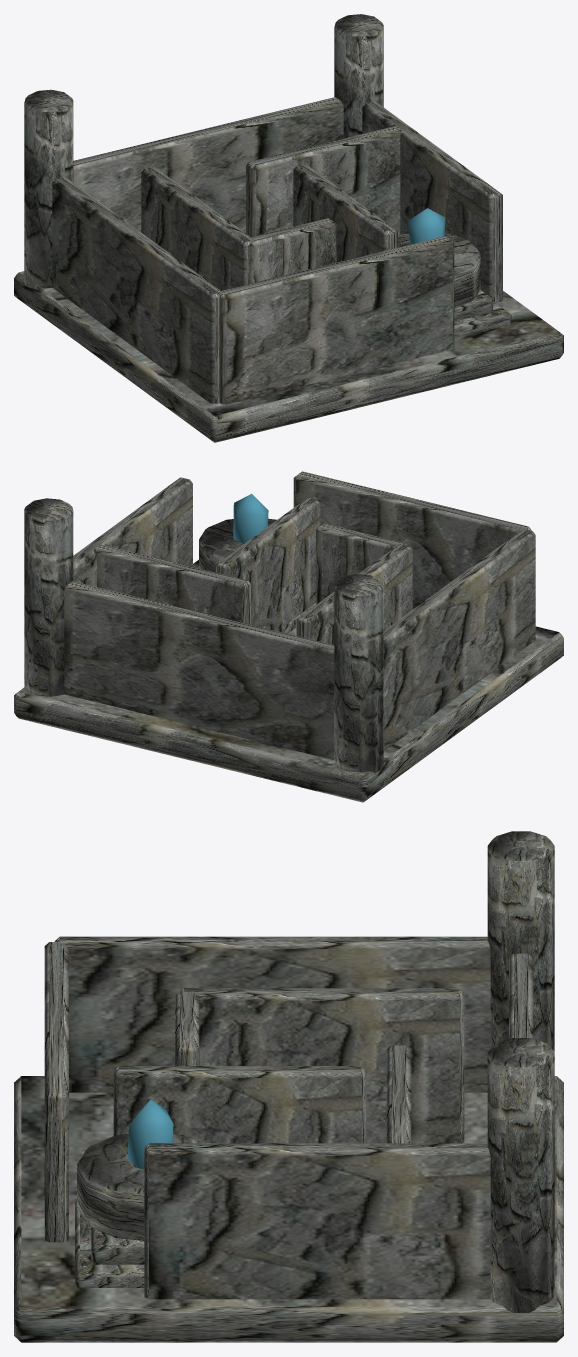
Rendered from env-site-labyrinth-mobile.glb.
The picture shows the model from 3 angles, top to bottom: view 1: azimuth 30°, elevation 25°; view 2: azimuth 150°, elevation 25°; view 3: azimuth 270°, elevation 25°; orthographic projection. The views are drawn at different scales.
Visible parts, largest first — view 1: site labyrinth · authored textured miniature; view 2: site labyrinth · authored textured miniature; view 3: site labyrinth · authored textured miniature.
Boxes of the visible parts, box(x1,y1,x2,y2) form: site labyrinth · authored textured miniature: box(14, 14, 563, 442); site labyrinth · authored textured miniature: box(14, 471, 563, 802); site labyrinth · authored textured miniature: box(14, 831, 563, 1342).
Bounding box in the file's own units: 1.37 × 0.76 × 1.35.
Materials: 2 (1 with a texture image).
